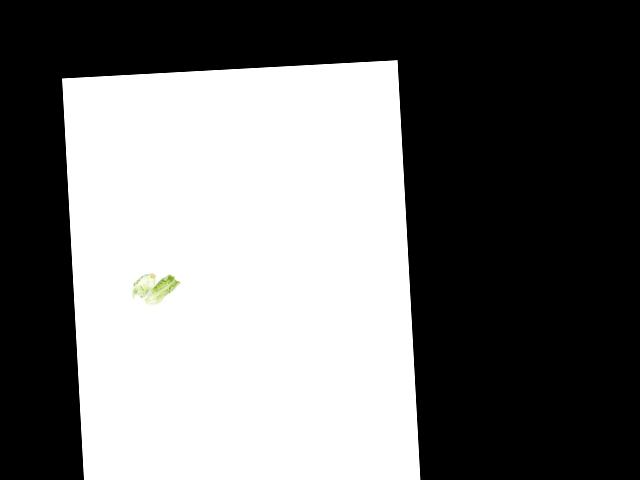lettuce: (129, 269, 158, 299)
